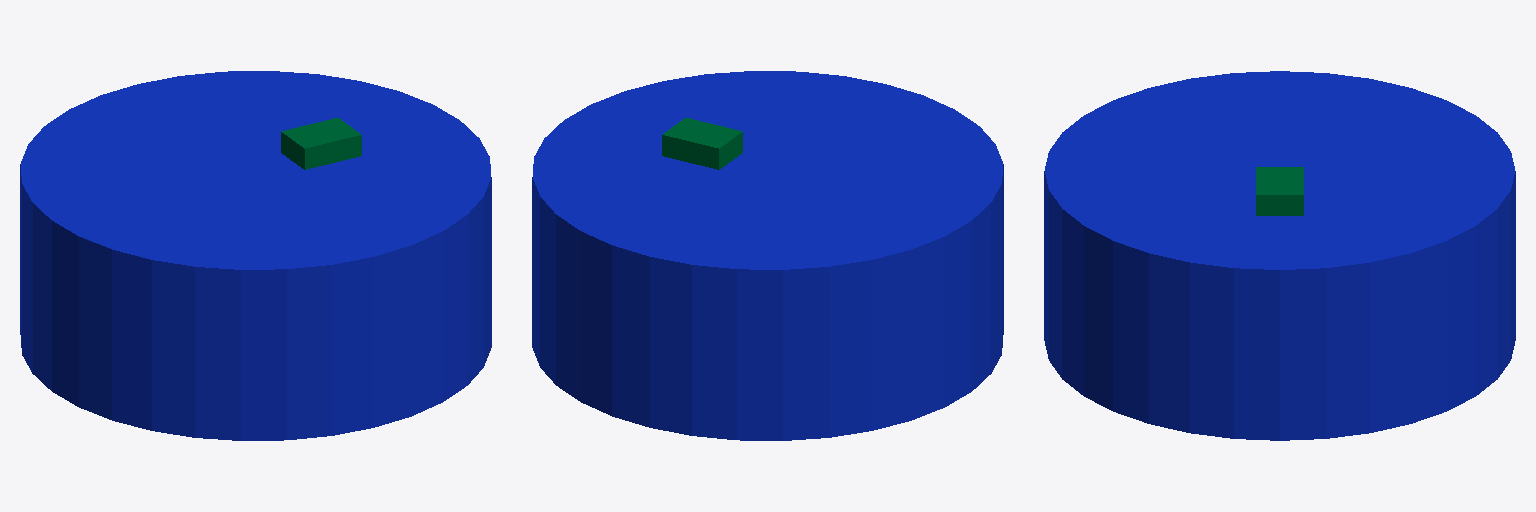
URDF robot description (xxu):
<?xml version="1.0"?>
<robot name="xxu">
  <!--
    XXU 简化模型
    源码中只保留 odom_link、base_link 和 imu_link。
  -->

  <material name="chassis_blue">
    <color rgba="0.10 0.25 0.80 1.0"/>
  </material>
  <material name="imu_green">
    <color rgba="0.0 0.45 0.25 1.0"/>
  </material>

  <!-- odom_link：里程计参考坐标系，作为当前简化 TF 树的根节点。 -->
  <link name="odom_link"/>

  <joint name="odom_joint" type="fixed">
    <parent link="odom_link"/>
    <child link="base_link"/>
    <origin xyz="0 0 0" rpy="0 0 0"/>
  </joint>

  <!-- base_link：底盘中心坐标系。x 轴向前，y 轴向左，z 轴向上。 -->
  <link name="base_link">
    <!-- 底盘主体：半径 25 cm，高度 20 cm -->
    <visual>
      <origin xyz="0 0 0" rpy="0 0 0"/>
      <geometry>
        <cylinder radius="0.25" length="0.20"/>
      </geometry>
      <material name="chassis_blue"/>
    </visual>
    <collision>
      <origin xyz="0 0 0" rpy="0 0 0"/>
      <geometry>
        <cylinder radius="0.25" length="0.20"/>
      </geometry>
    </collision>
    <inertial>
      <origin xyz="0 0 0" rpy="0 0 0"/>
      <mass value="12.0"/>
      <inertia ixx="0.1025" ixy="0" ixz="0" iyy="0.1025" iyz="0" izz="0.3750"/>
    </inertial>
  </link>

  <!-- imu_link：IMU 坐标系，直接固定在 base_link 上。 -->
  <link name="imu_link">
    <visual>
      <origin xyz="0 0 0" rpy="0 0 0"/>
      <geometry>
        <box size="0.07 0.05 0.025"/>
      </geometry>
      <material name="imu_green"/>
    </visual>
    <collision>
      <origin xyz="0 0 0" rpy="0 0 0"/>
      <geometry>
        <box size="0.07 0.05 0.025"/>
      </geometry>
    </collision>
    <inertial>
      <origin xyz="0 0 0" rpy="0 0 0"/>
      <mass value="0.10"/>
      <inertia ixx="0.00004" ixy="0" ixz="0" iyy="0.00006" iyz="0" izz="0.00007"/>
    </inertial>
  </link>

  <joint name="imu_joint" type="fixed">
    <parent link="base_link"/>
    <child link="imu_link"/>
    <origin xyz="0.08 0 0.1125" rpy="0 0 0"/>
  </joint>
</robot>

--- What the picture shows (computed from the rendered views, not written in the file) ---
Views: 3 orthographic renders of the robot side by side, from view 1: azimuth 30°, elevation 25°; view 2: azimuth 150°, elevation 25°; view 3: azimuth 270°, elevation 25°.
Model xxu with 3 links and 2 joints (2 fixed), rooted at odom_link, posed every joint at zero.
Links seen in each view (by area): view 1: base_link, imu_link; view 2: base_link, imu_link; view 3: base_link, imu_link.
Link boxes in pixels (x1,y1,x2,y2): base_link: (20, 71, 491, 440); imu_link: (281, 118, 361, 169); base_link: (532, 71, 1003, 440); imu_link: (662, 118, 742, 169); base_link: (1044, 71, 1515, 440); imu_link: (1256, 167, 1303, 215).
Bounding box of the posed robot: 0.5 × 0.5 × 0.225 m (x, y, z).
Geometry: primitives only (box / cylinder / sphere), no mesh files.
